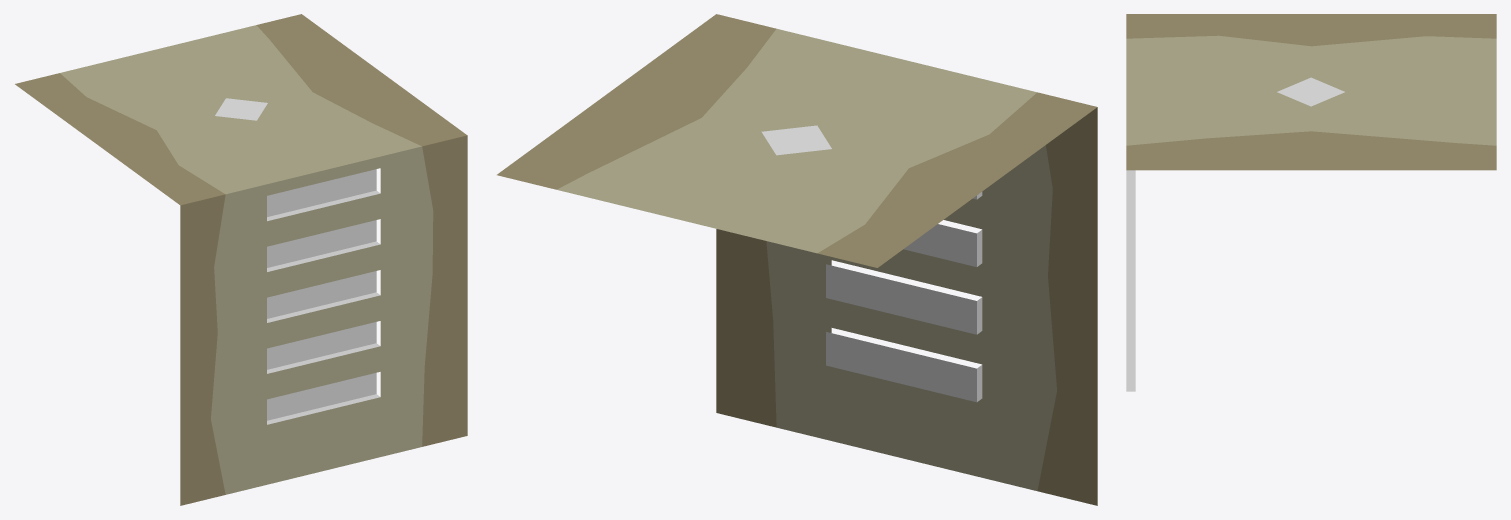
The model's file is 90S Right Straight.fbx.
The picture shows the model from 3 angles, left to right: view 1: azimuth 30°, elevation 25°; view 2: azimuth 150°, elevation 25°; view 3: azimuth 270°, elevation 25°; orthographic projection. The views are drawn at different scales.
Visible parts, largest first — view 1: polySurface7467; view 2: polySurface7467; view 3: polySurface7467.
Boxes of the visible parts, x1,y1,x2,y2 form: polySurface7467: [15, 14, 467, 505]; polySurface7467: [497, 14, 1097, 505]; polySurface7467: [1126, 14, 1496, 391].
Size of the model in its own units: 100 by 100 by 100.
